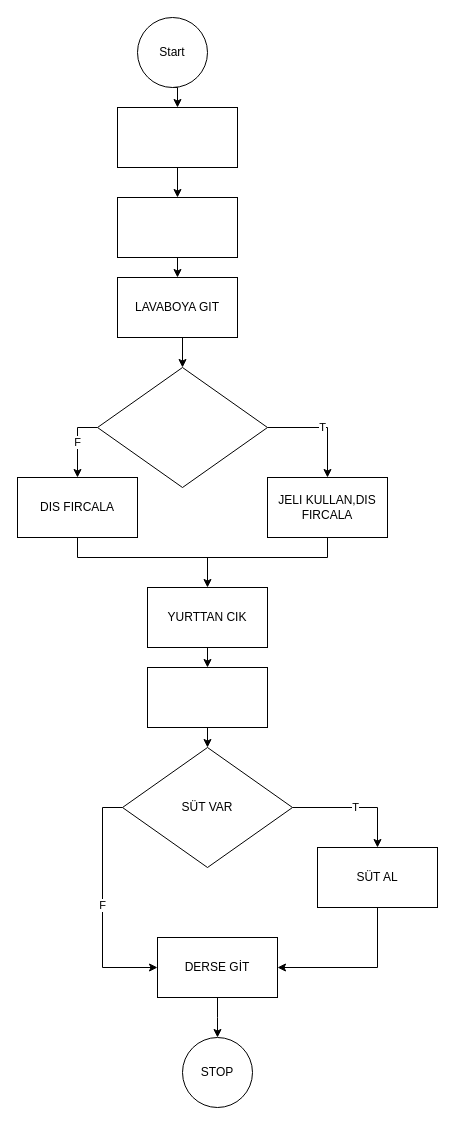
The diagram is 455 pixels wide and 1125 high, and some of its shapes have lost their labels. The shapes that lost their labels are listed below. From the top down, each one's box as (x1, y1, x2, y2) in pixels, then its label:
(116, 106, 238, 168): UYAN
(116, 196, 238, 258): YATAKTAN KALK
(96, 366, 268, 488): YUZ TEMIZLEME JELI KULLANIMI
(146, 666, 268, 728): KANTİNE GİT
